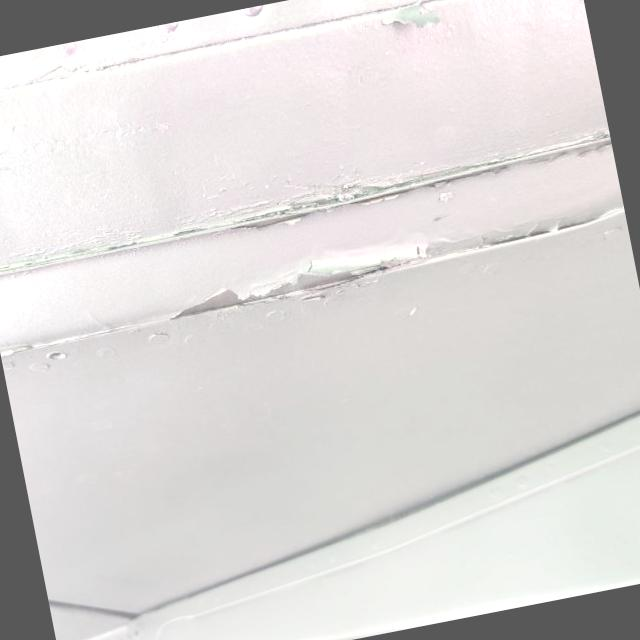paint-off: (154, 246, 398, 330)
